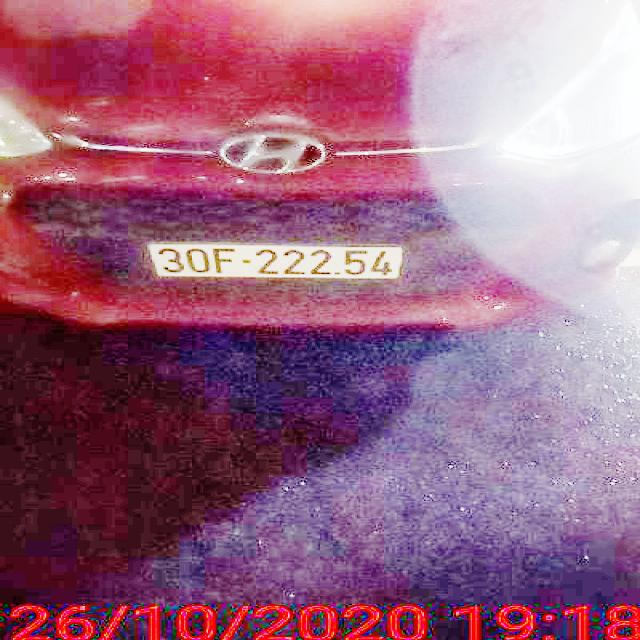license_plate: (152, 245, 409, 279)
